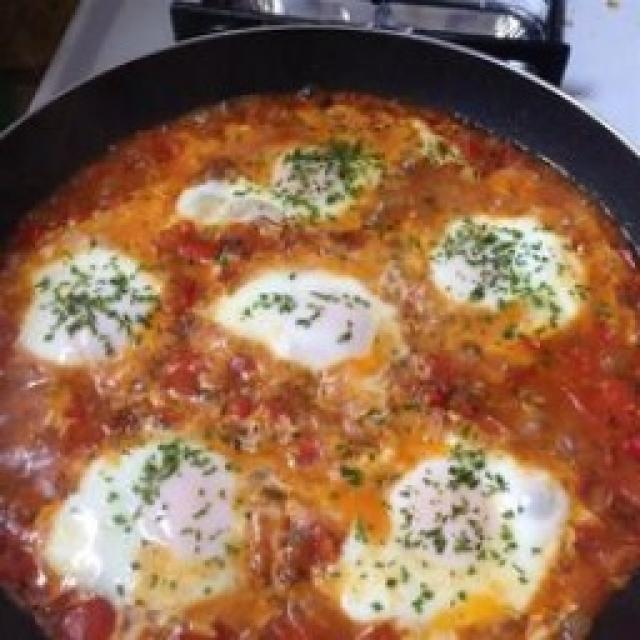Chakchouka: (0, 82, 640, 640)
